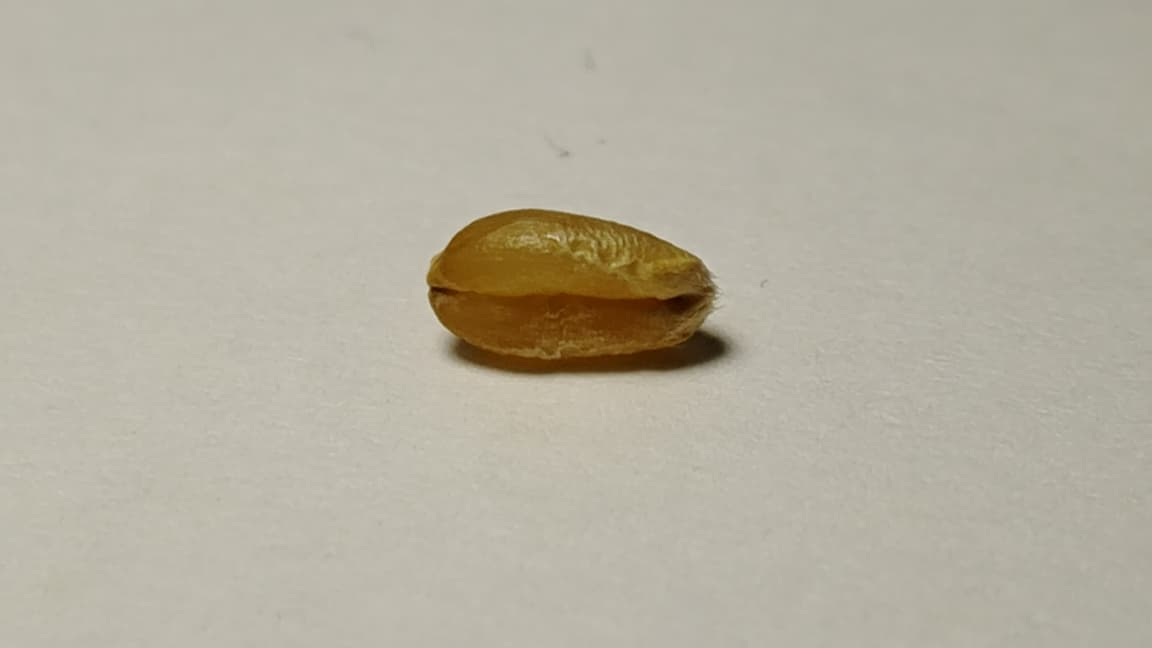healthy: (429, 215, 715, 359), (510, 329, 627, 356)
